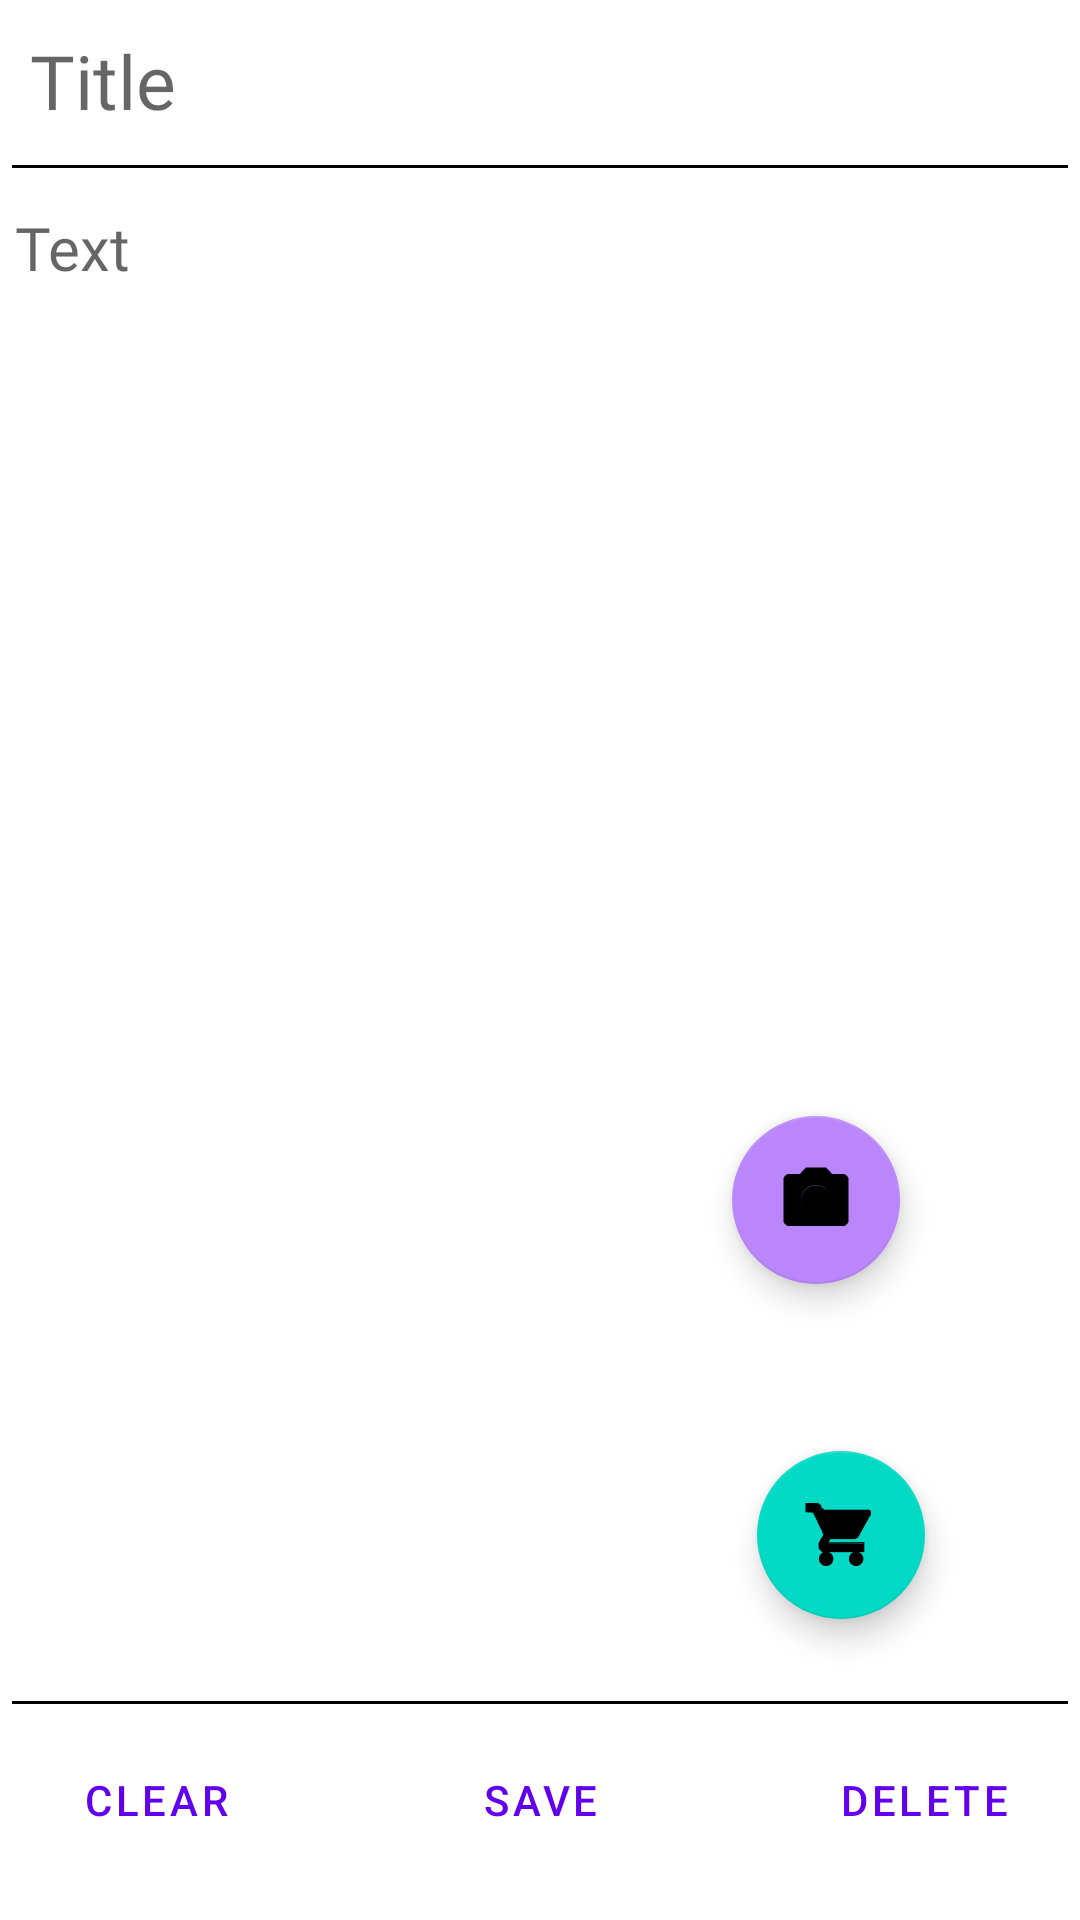

Where to tap for icons on this 1080px x 1920px app screen, as (x=x, y=y):
photo camera: (x=816, y=1200)
shopping cart: (x=841, y=1535)
